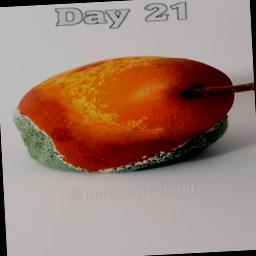Pear Rotten: (4, 40, 256, 180)
